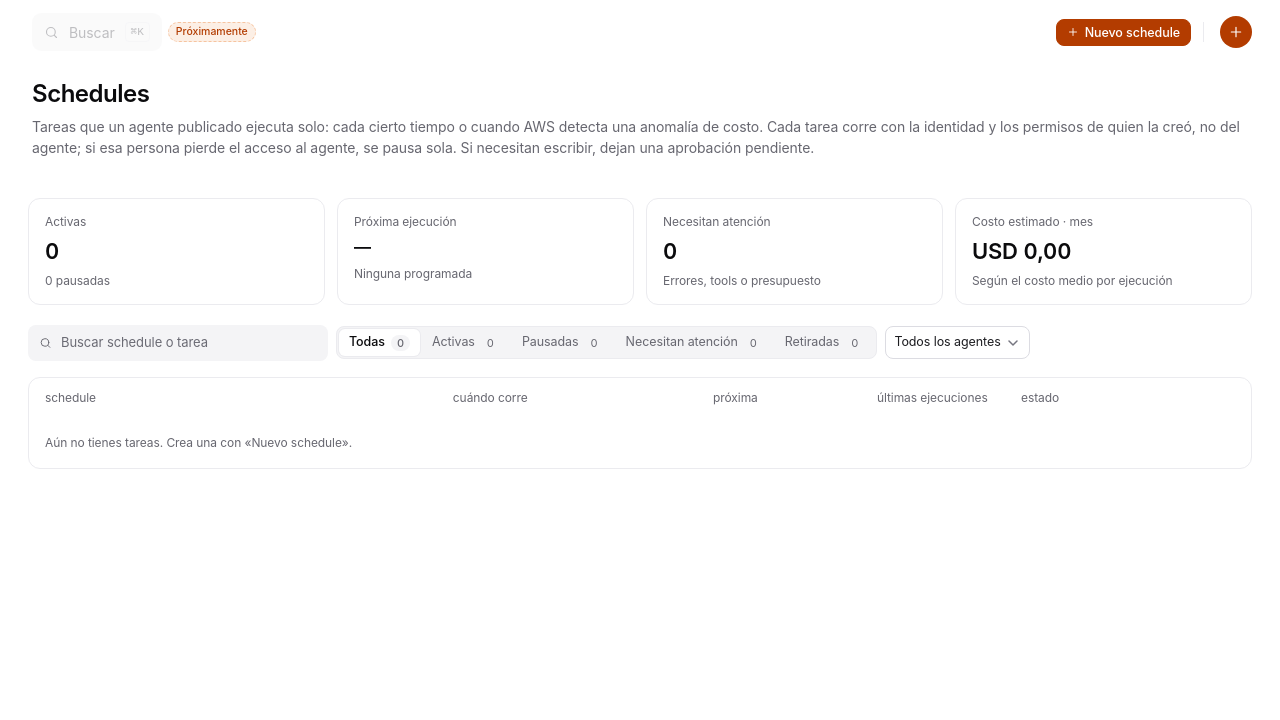
Test: SchedulesPage › creates a scheduled task with the fields of the design
Click the button "Nuevo schedule" at (1123, 32), box x1=1056 y1=18 x2=1191 y2=46
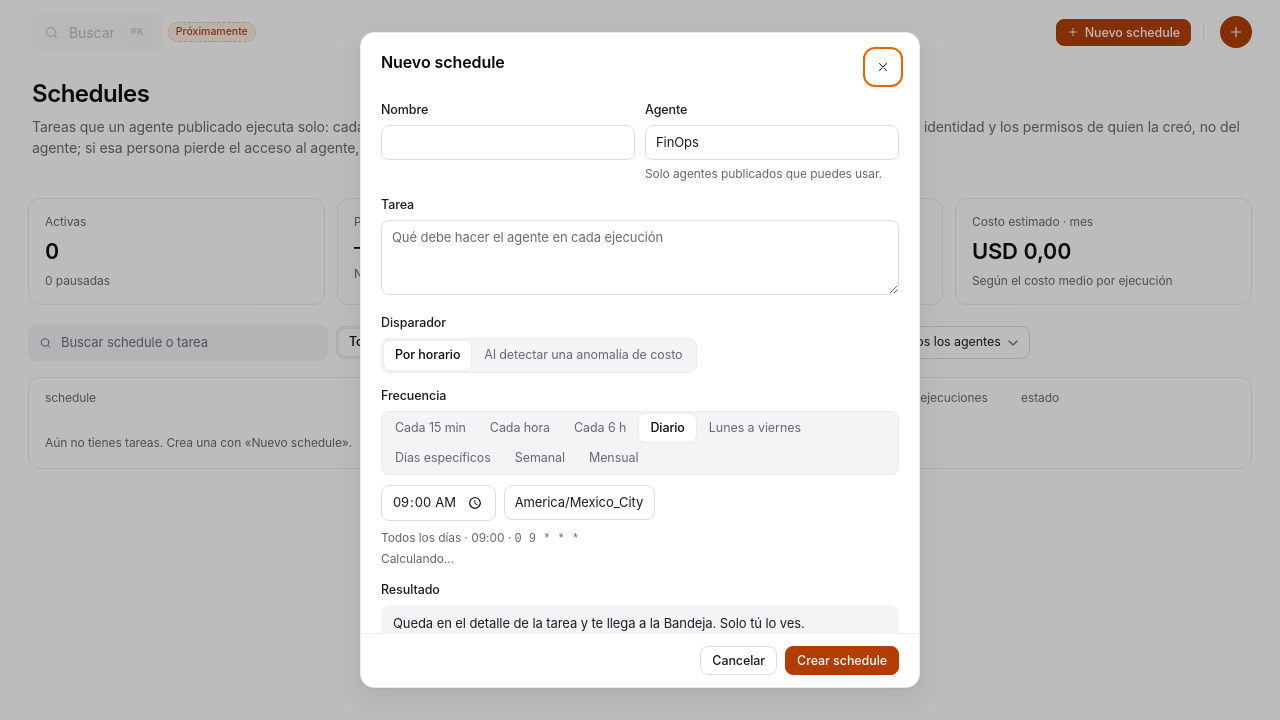
Click the button "Crear schedule" at (842, 660), box x1=785 y1=646 x2=899 y2=675
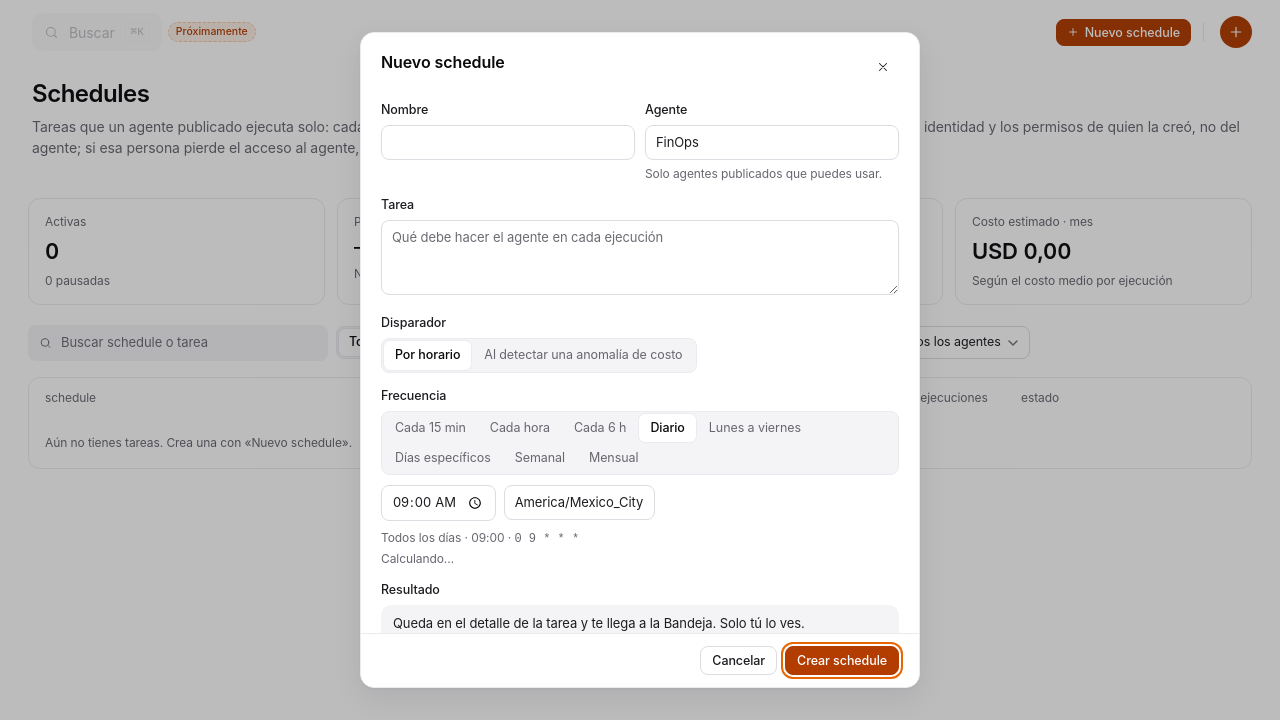
Type "Semanal" into the field labelled "Nombre" at (508, 142), box x1=381 y1=125 x2=635 y2=160
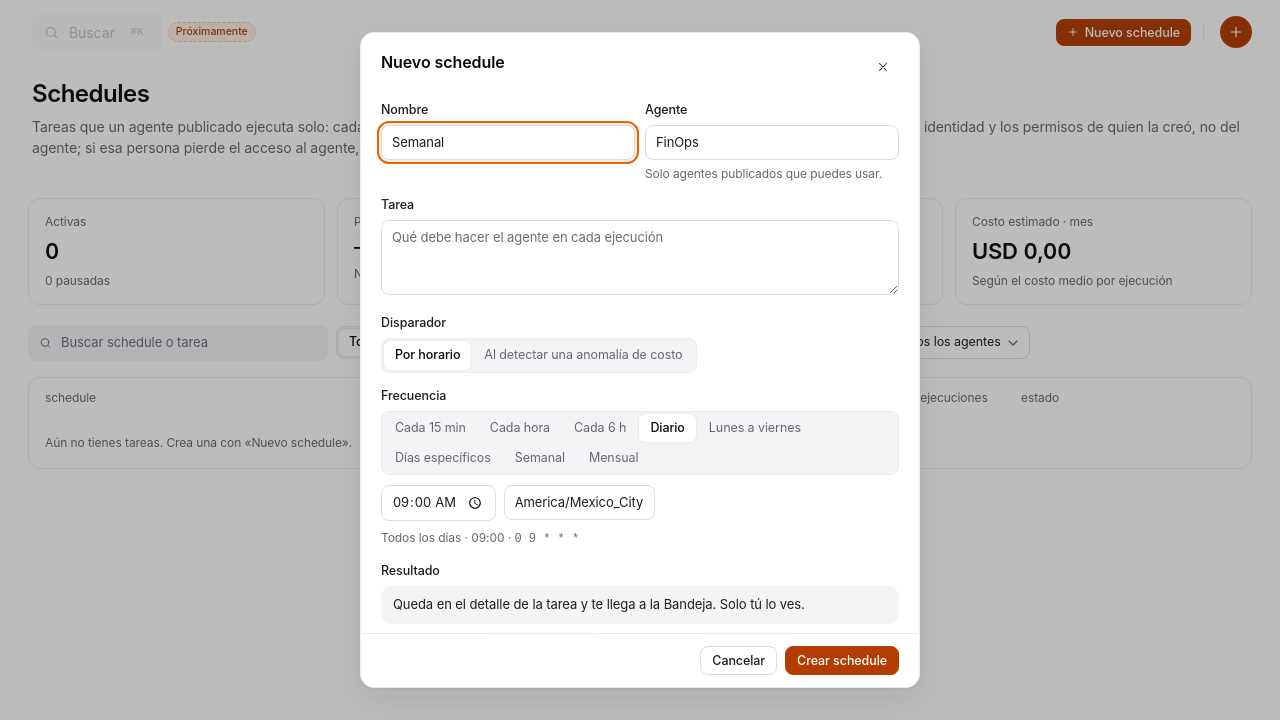
Type "Revisa el gasto" into the text box labelled "Tarea" at (640, 258), box x1=381 y1=220 x2=899 y2=295
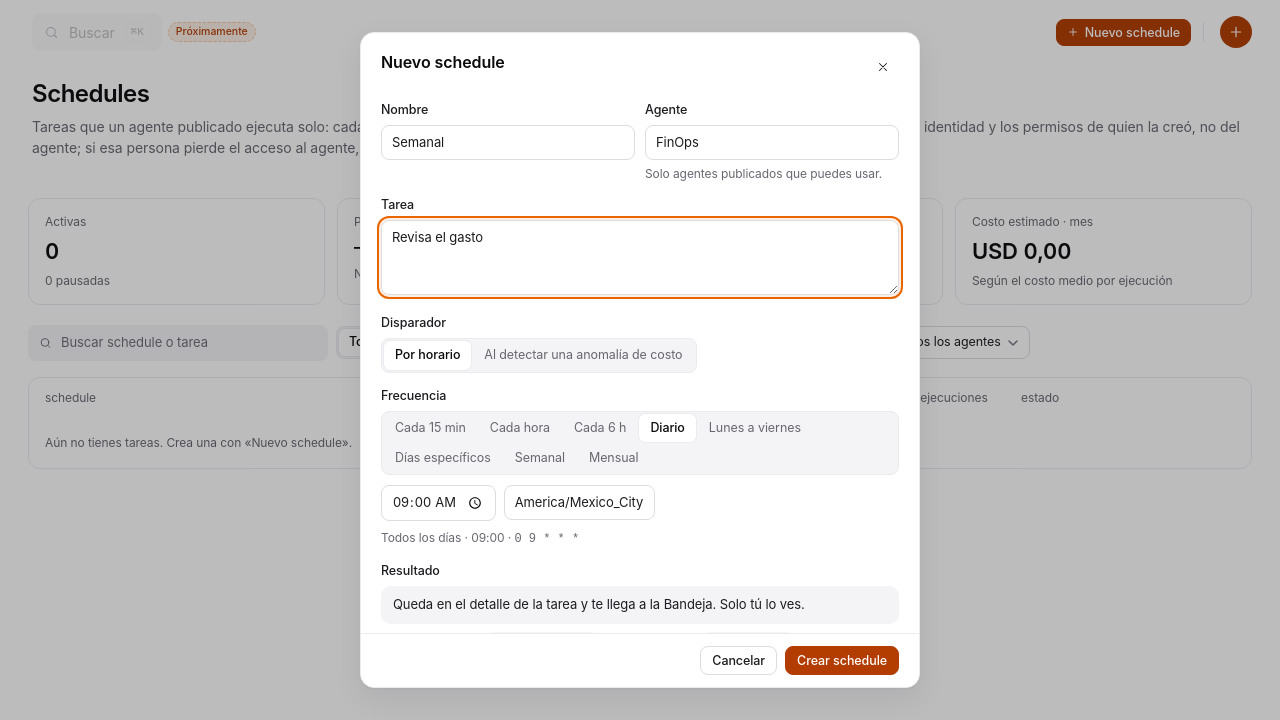
Click the button "Semanal" at (540, 458), box x1=504 y1=444 x2=576 y2=472
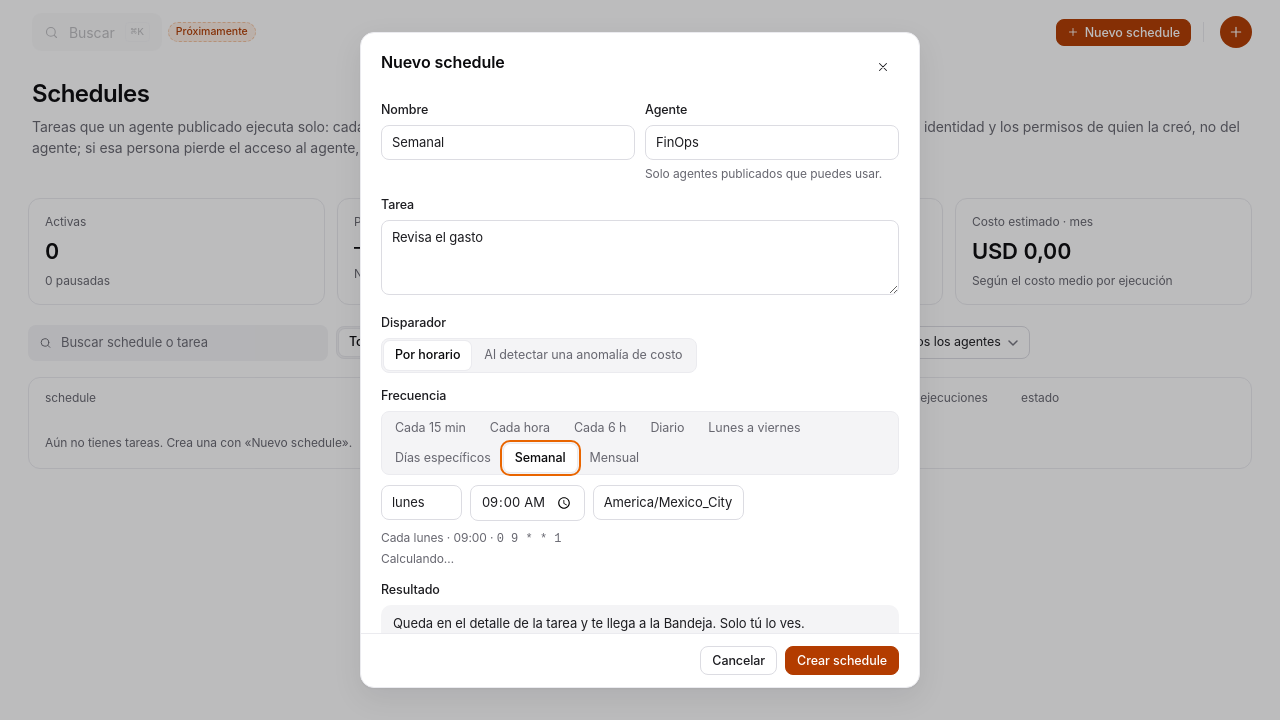
Click the button "Crear schedule" at (842, 660), box x1=785 y1=646 x2=899 y2=675
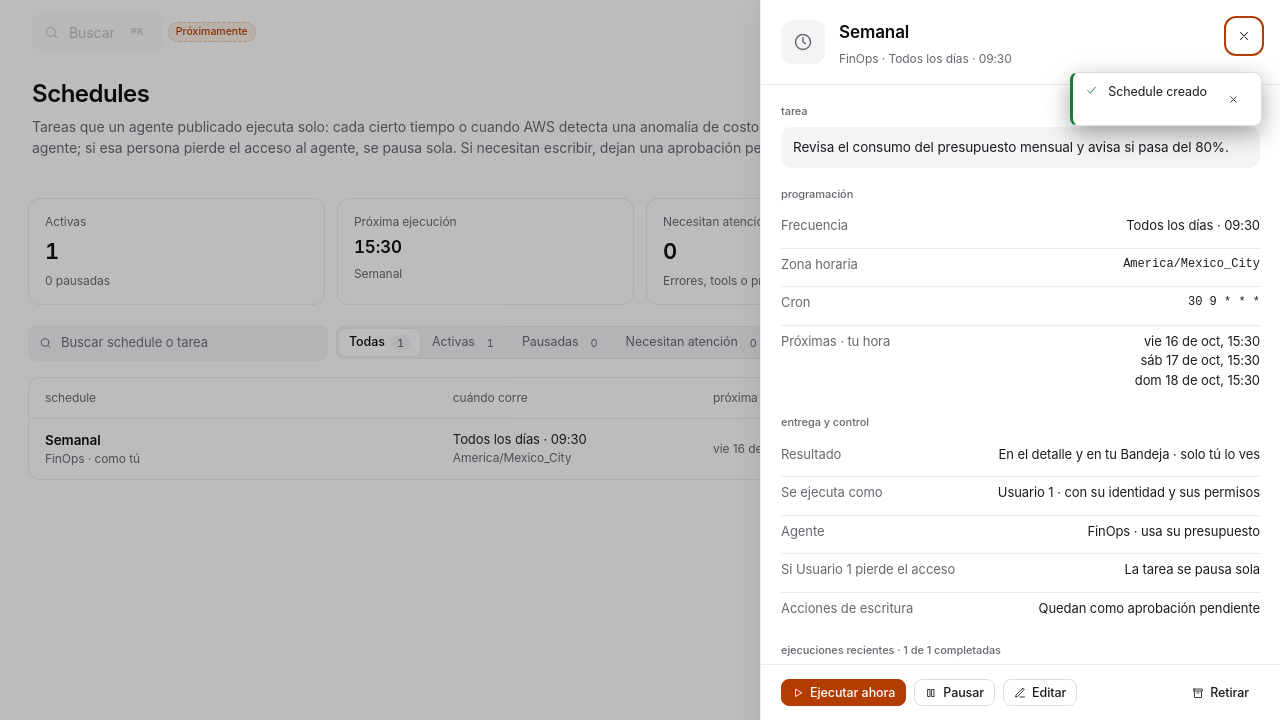
expect the text "Schedule creado" is shown: met, box x1=1108 y1=83 x2=1207 y2=102
